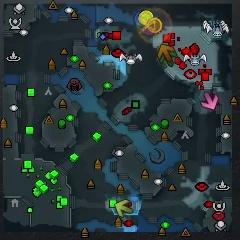Other: (147, 18, 163, 34)
p1: (134, 11, 143, 27)
p3: (143, 27, 157, 38)
p4: (139, 9, 154, 26)
x1: (201, 92, 218, 109)
x2: (115, 200, 132, 216)
x4: (158, 51, 177, 67)
x5: (158, 43, 175, 62)
